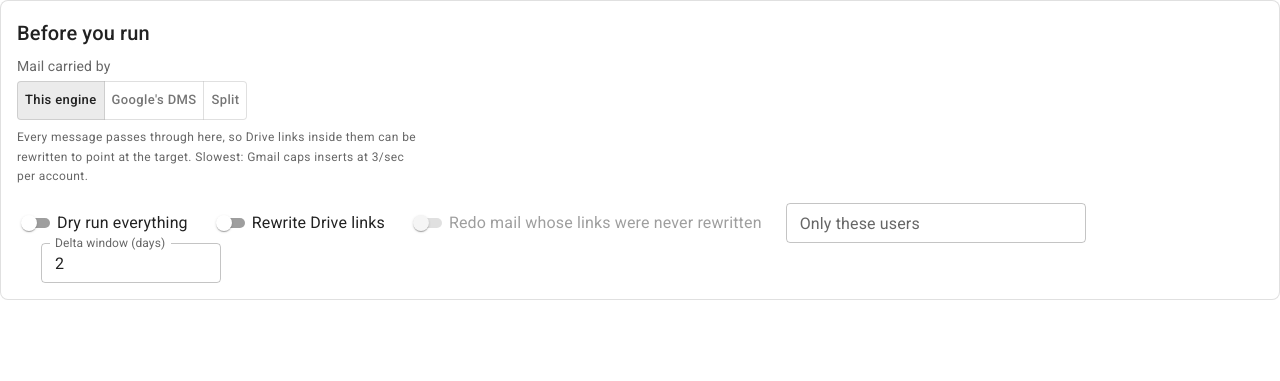
it: RunOptions › renders the server's answer, not the request
Click the button with test id "transport-split" at (226, 100), box [204,81,248,120]
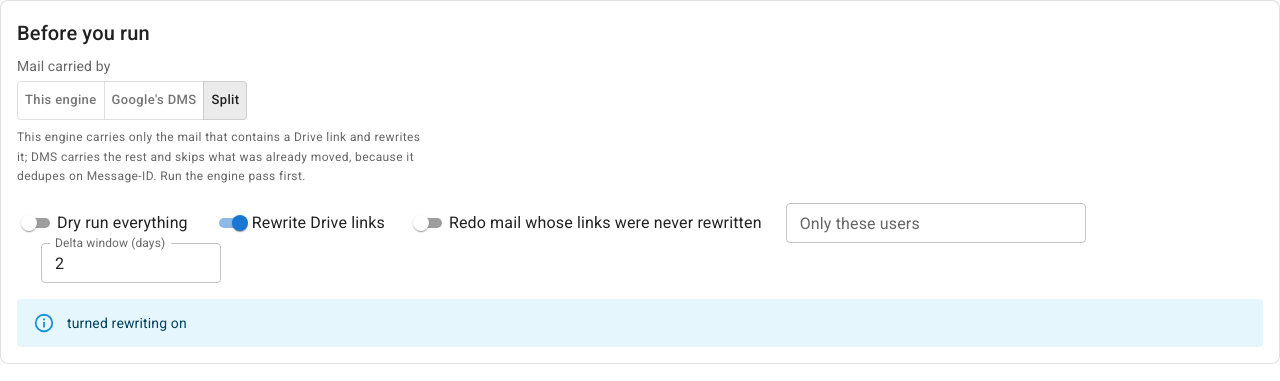
Expected: the checkbox with test id "rewrite-drive-links" is checked, [212,211,385,235]
Expected: the message with test id "run-options-note" reads "turned rewriting on", [67,315,187,331]
